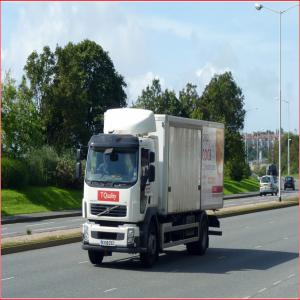Vehicle-registration-plate: (101, 241, 114, 247)
